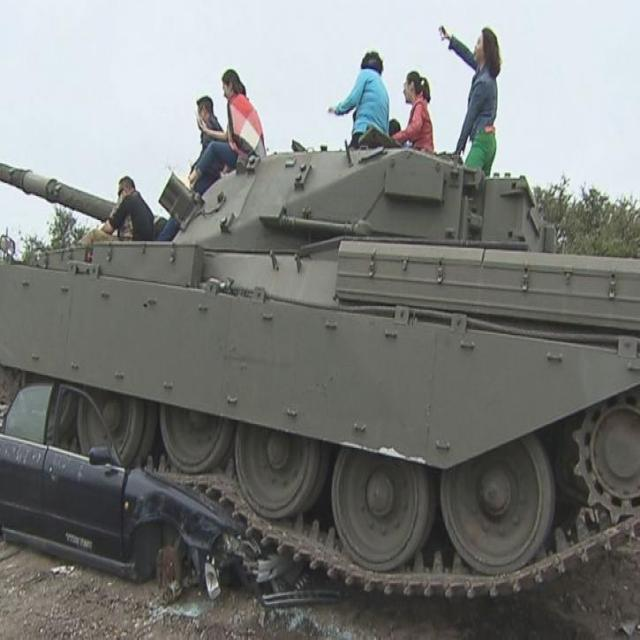Tanks: (12, 179, 624, 584)
